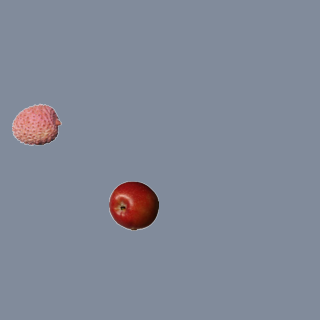Apple Braeburn: (108, 180, 158, 230)
Lychee: (11, 99, 61, 149)
